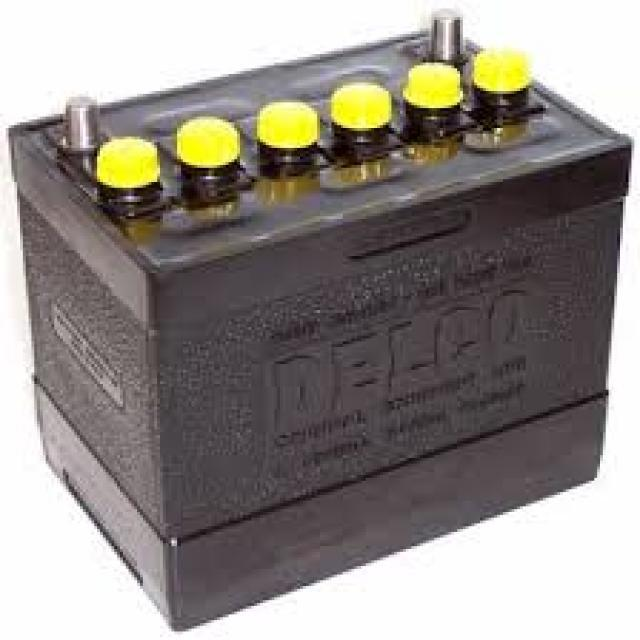battery: (9, 6, 634, 634)
